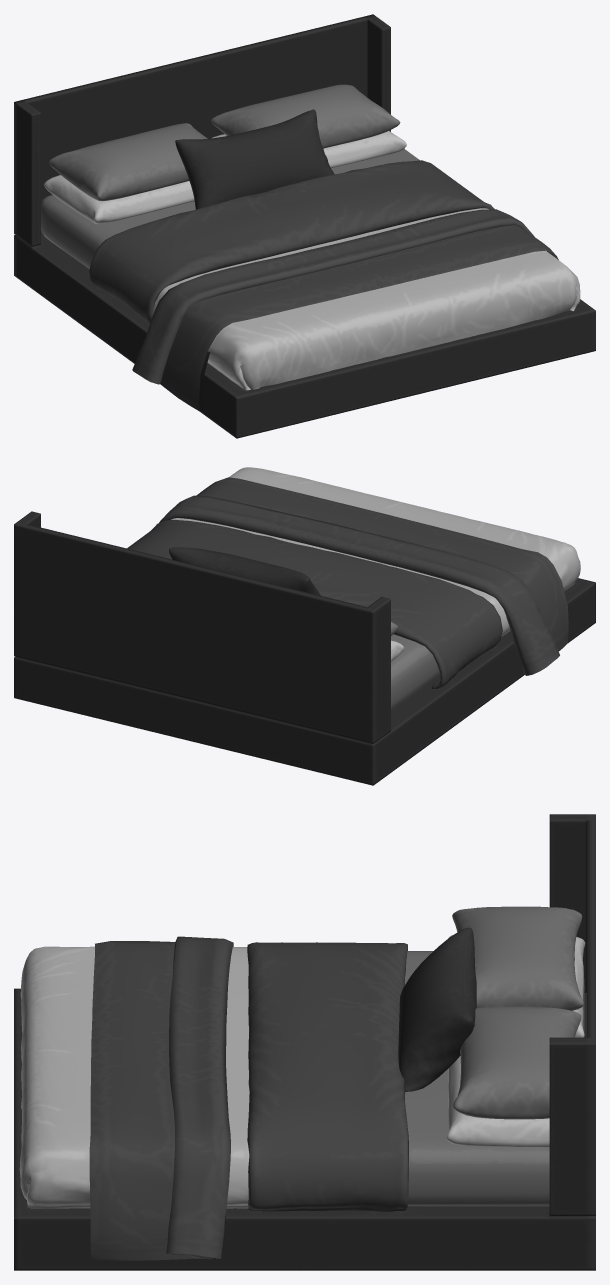
The picture shows the model from 3 angles, top to bottom: view 1: azimuth 30°, elevation 25°; view 2: azimuth 150°, elevation 25°; view 3: azimuth 270°, elevation 25°; orthographic projection. The views are drawn at different scales.
Parts seen in each view (by area): view 1: Bed_LP_Default_0; view 2: Bed_LP_Default_0; view 3: Bed_LP_Default_0.
Part boxes in pixels (x1,y1,x2,y2): Bed_LP_Default_0: (14,14,595,438); Bed_LP_Default_0: (14,467,595,785); Bed_LP_Default_0: (14,814,595,1270).
Bounding box in the file's own units: 2137 × 858 × 1993.
Materials: 1 (1 with a texture image).
